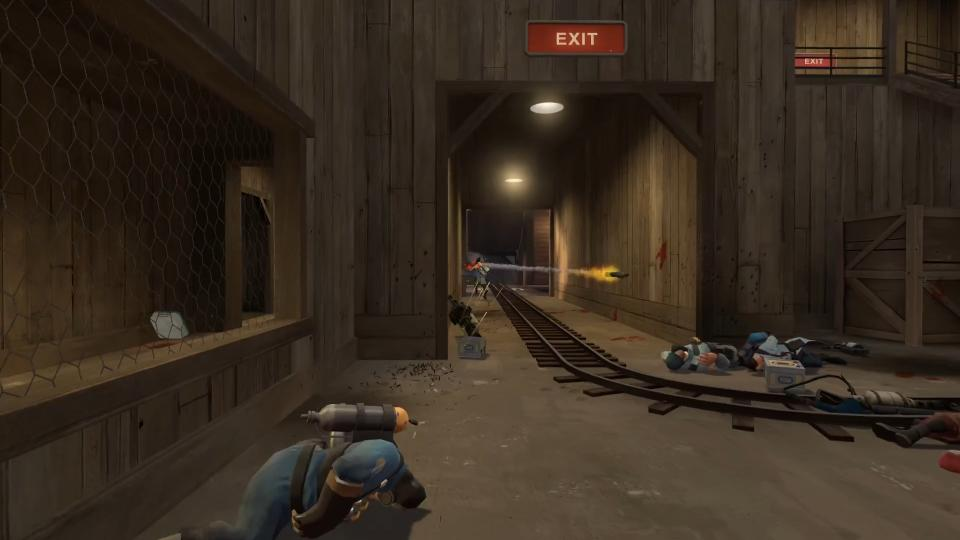Enemy: (156, 398, 425, 540), (739, 333, 848, 369), (661, 337, 746, 373), (470, 259, 489, 300)
